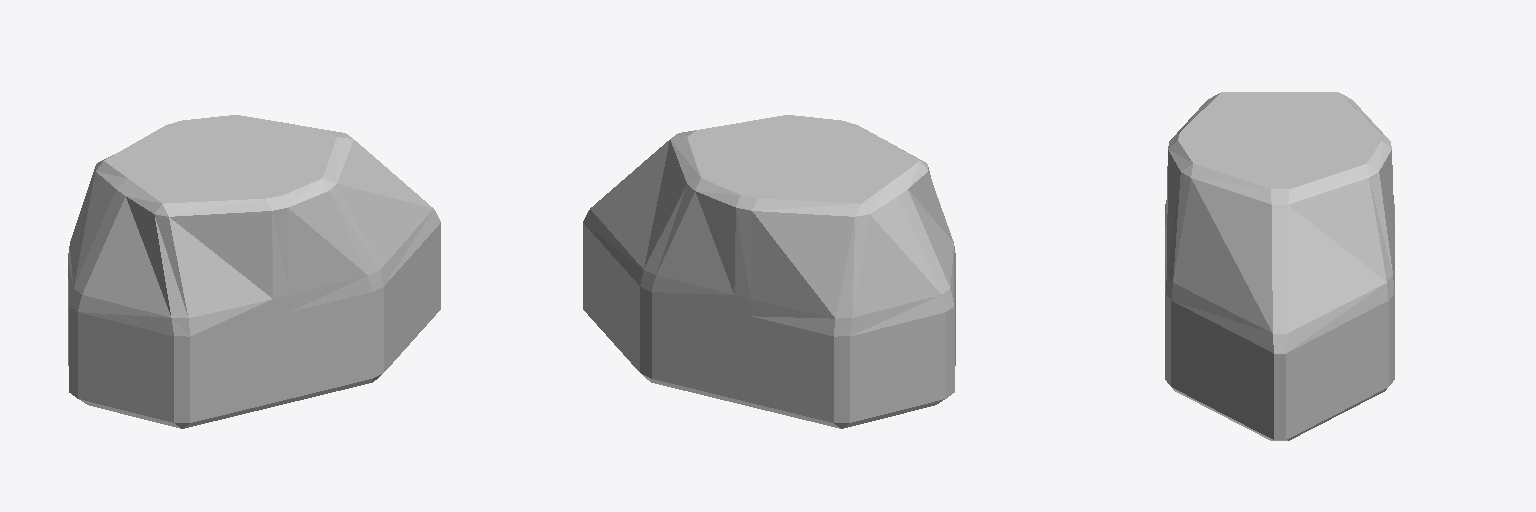
The model's file is mountian.obj.
3 renders of one model, left to right at view 1: azimuth 30°, elevation 25°; view 2: azimuth 150°, elevation 25°; view 3: azimuth 270°, elevation 25°, orthographic.
Bounding box in the file's own units: 3.68 × 2 × 2.